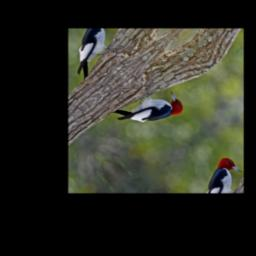Woodpecker: (109, 72, 190, 148)
